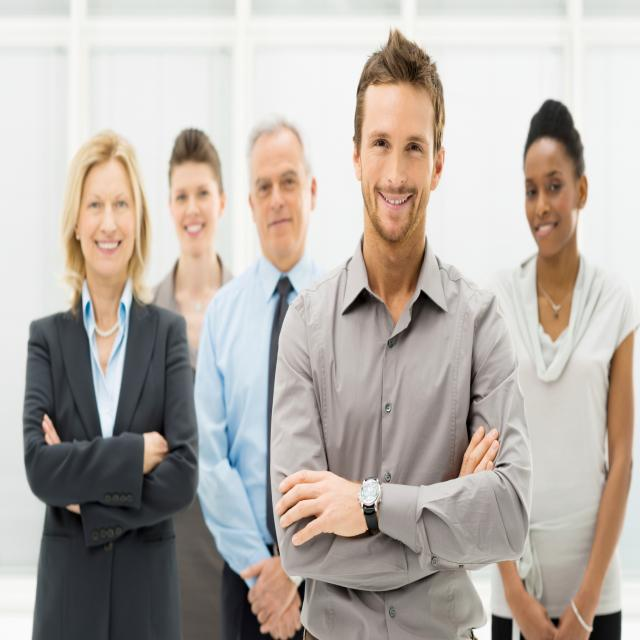adult: (266, 26, 532, 640), (24, 128, 199, 640), (485, 98, 640, 640), (193, 120, 336, 640), (152, 128, 236, 638)
